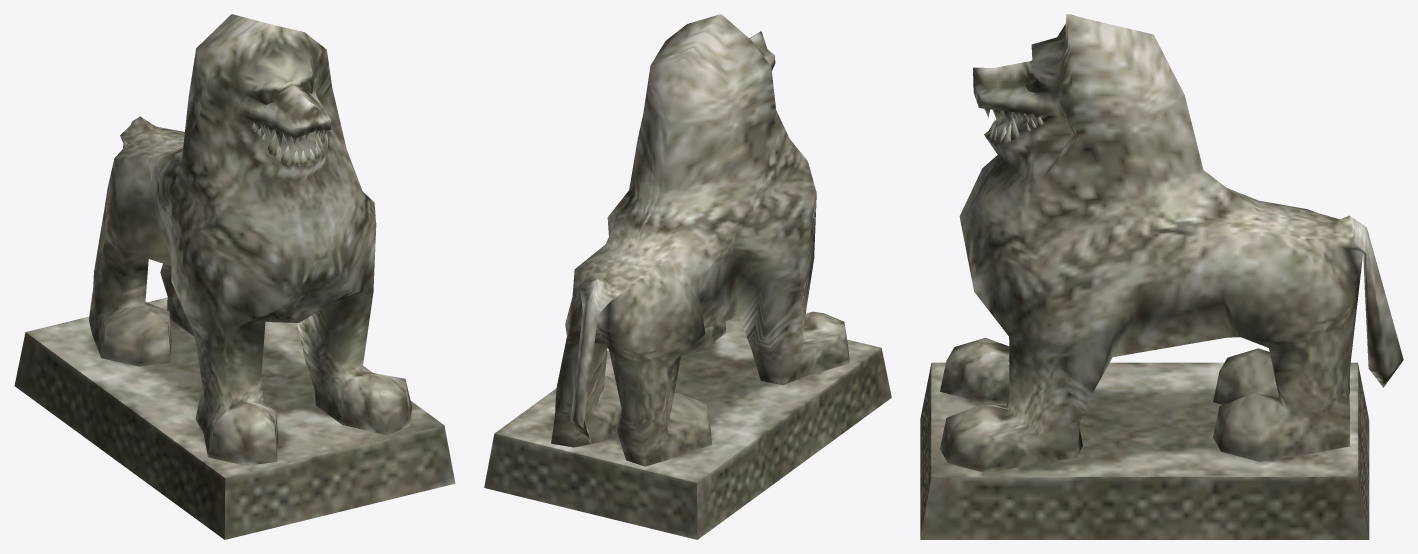
The model's file is general_obj_lionstoneimage.glb.
The picture shows the model from 3 angles, left to right: view 1: azimuth 30°, elevation 25°; view 2: azimuth 150°, elevation 25°; view 3: azimuth 270°, elevation 25°; orthographic projection. The views are drawn at different scales.
Parts seen in each view (by area): view 1: Object19; view 2: Object19; view 3: Object19.
Part boxes in pixels (x1=…): Object19: x1=14, y1=14, x2=455, y2=539; Object19: x1=484, y1=14, x2=891, y2=539; Object19: x1=920, y1=14, x2=1403, y2=539.
Bounding box in the file's own units: 2.77 × 5.01 × 4.71.
Materials: 1 (1 with a texture image).
